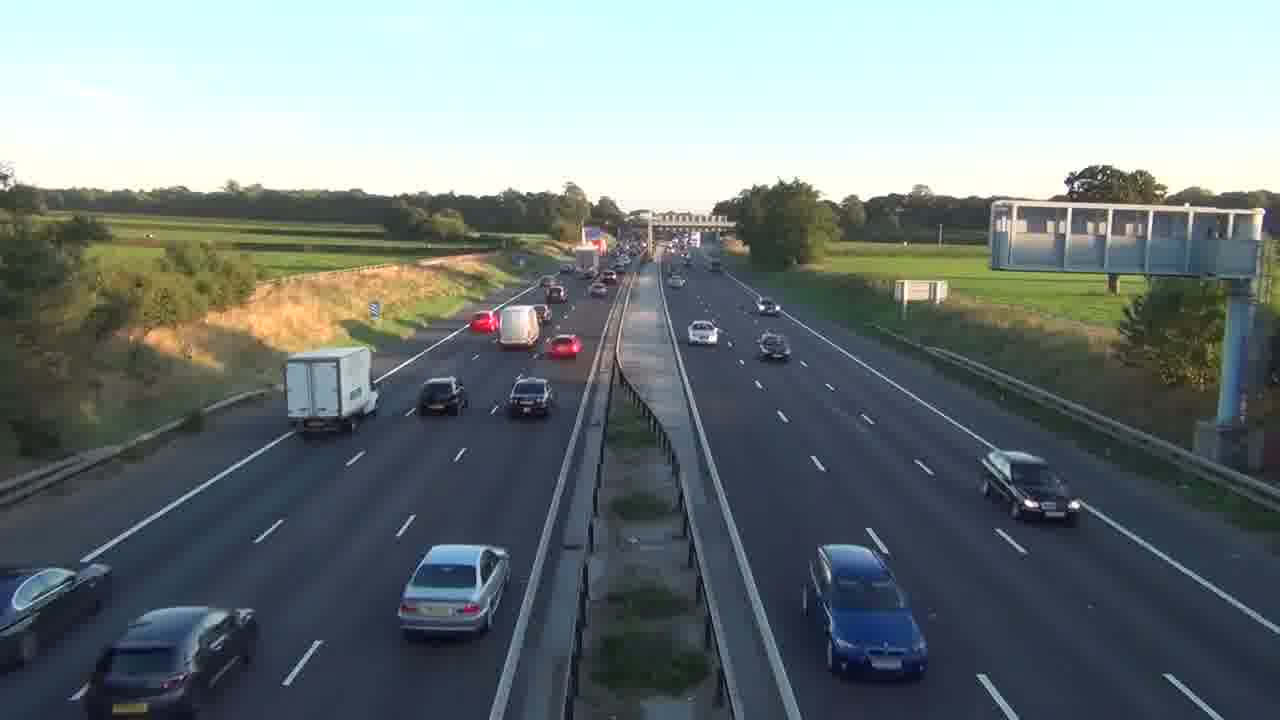car: (85, 604, 259, 718), (397, 543, 512, 641), (415, 374, 468, 416), (507, 376, 551, 418), (756, 330, 791, 361), (546, 333, 584, 359), (687, 320, 719, 346)
truck: (85, 604, 259, 718), (800, 540, 930, 682), (284, 345, 379, 436), (978, 448, 1084, 526)
